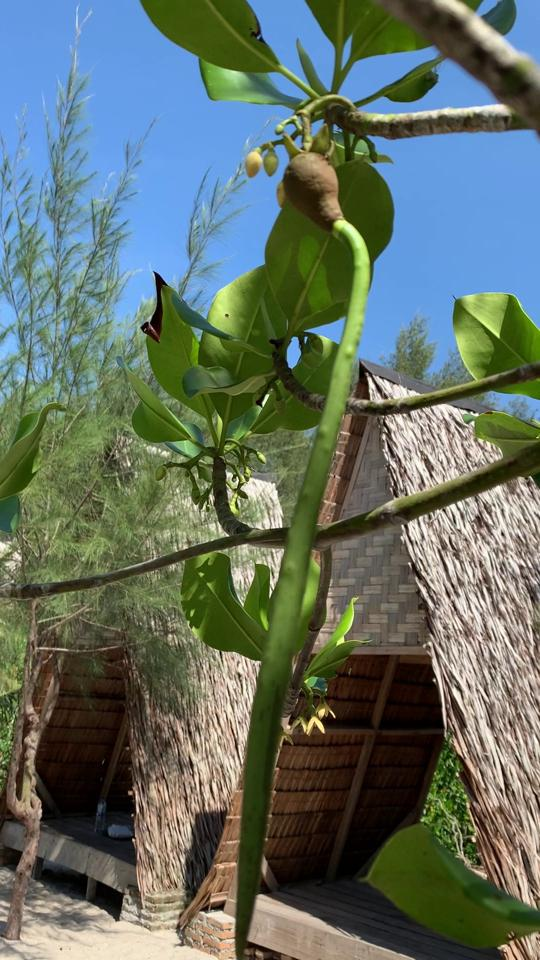setengah matang: (223, 122, 376, 955)
